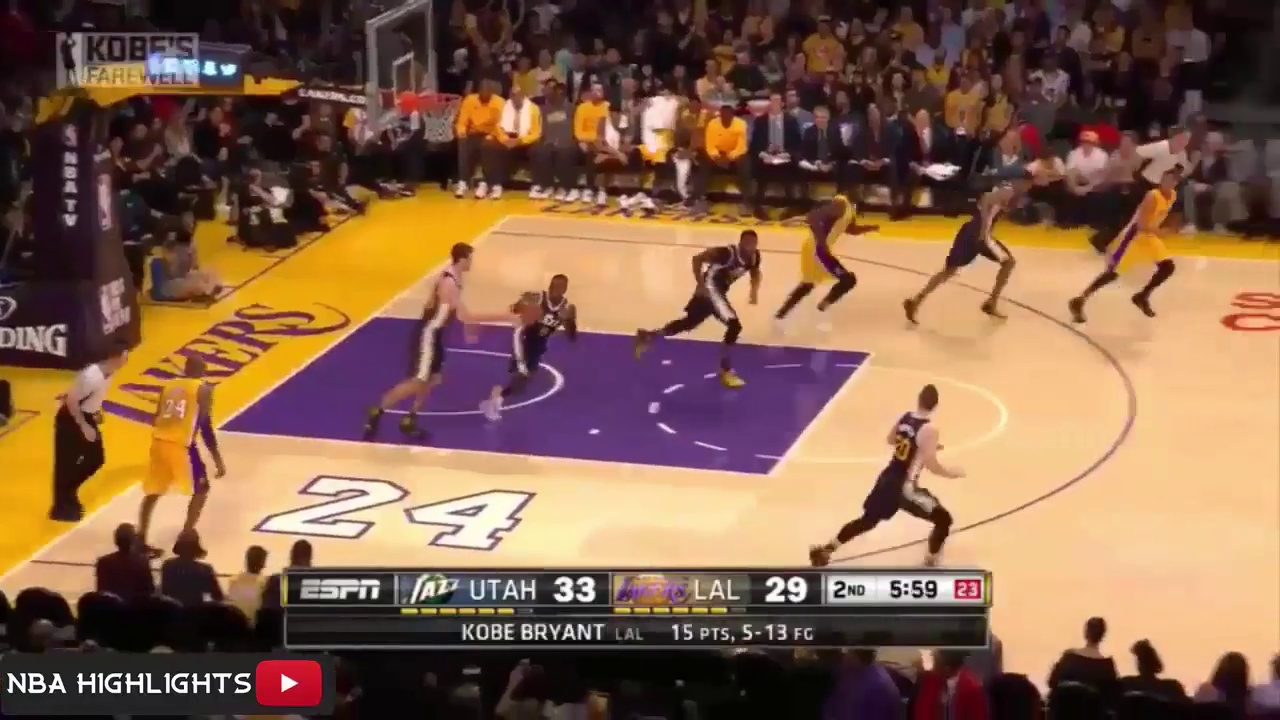jazz: (809, 387, 983, 563), (371, 240, 498, 436), (899, 172, 1042, 333), (632, 229, 773, 385), (480, 265, 598, 422)
lakers: (1069, 169, 1188, 326), (138, 346, 228, 553), (773, 179, 878, 343)
